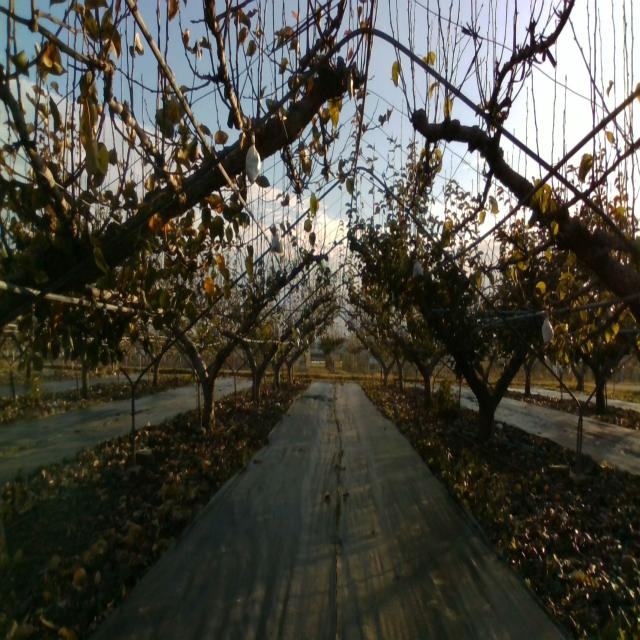pearbags: (245, 134, 262, 185), (270, 229, 284, 255), (541, 318, 554, 343), (412, 258, 423, 280)
